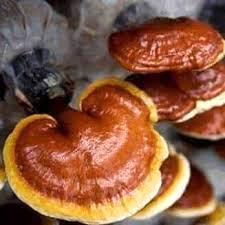Ganoderma - Fruit Body: (0, 76, 170, 225), (103, 14, 224, 72), (125, 75, 225, 123), (131, 151, 190, 220), (167, 166, 219, 218), (173, 101, 225, 141)
